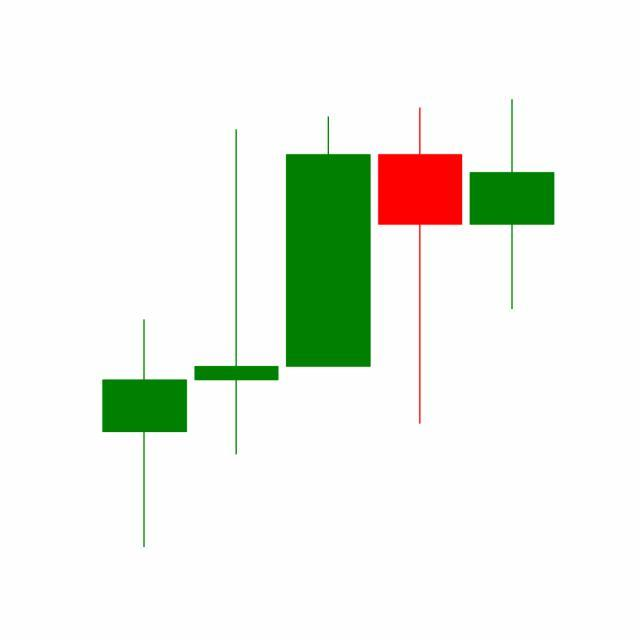Spinning Top: (466, 98, 559, 313)
